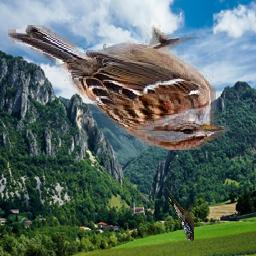Sparrow: (8, 26, 230, 151)
Swallow: (166, 187, 194, 241)
